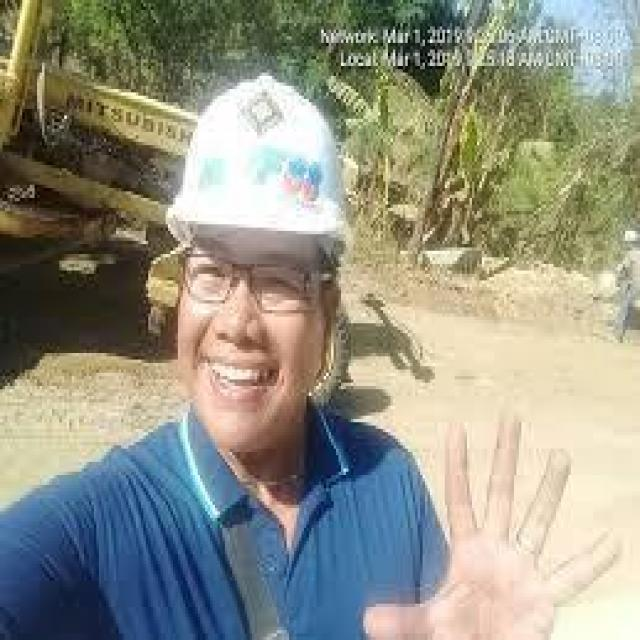hat: (165, 73, 350, 248)
